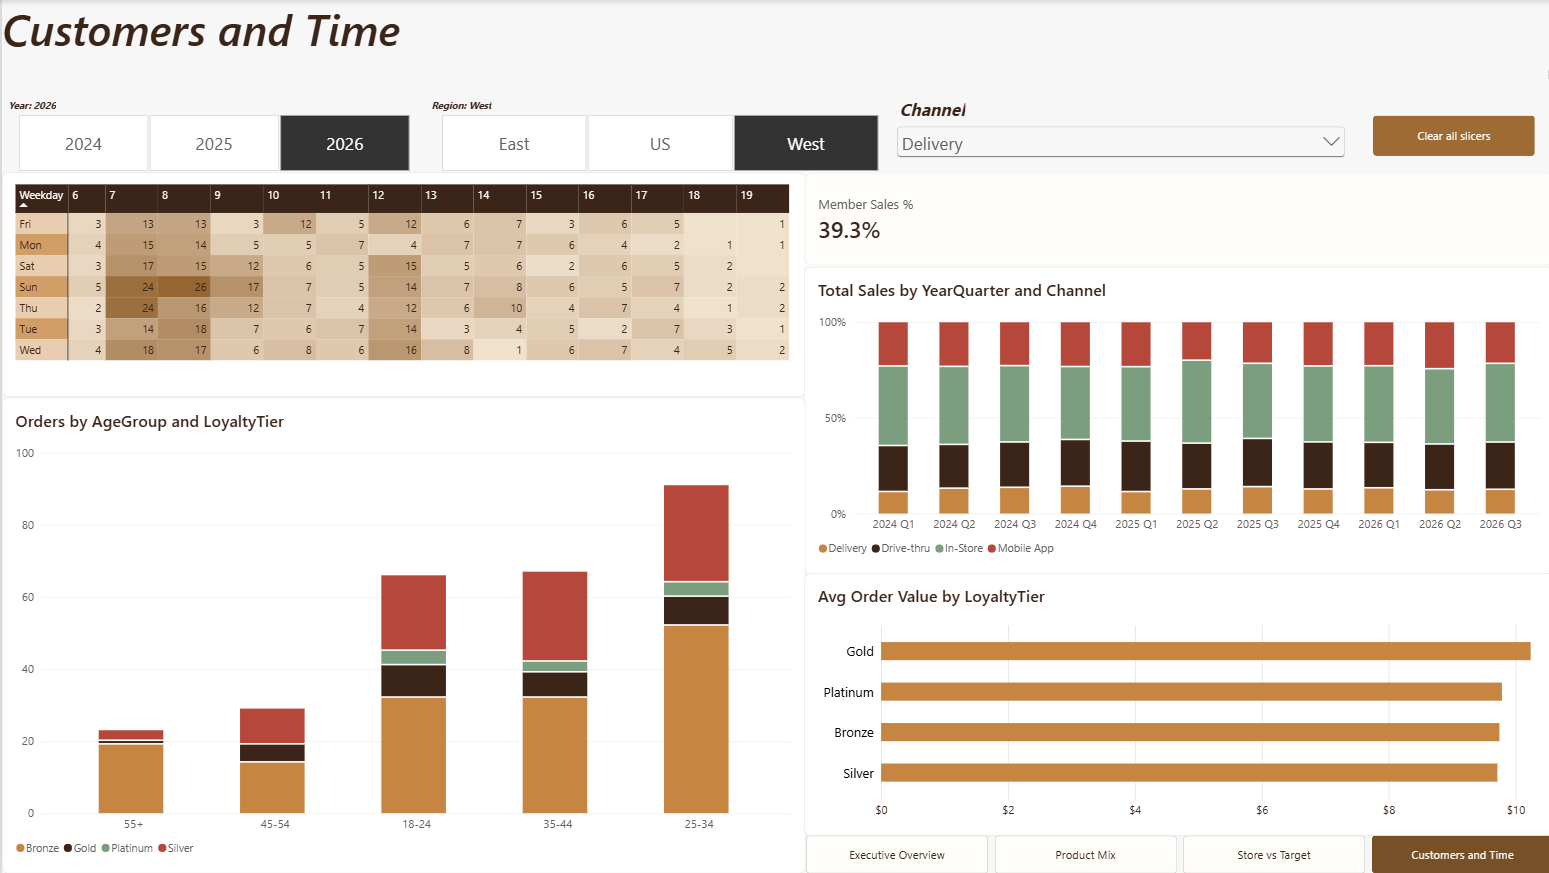

The page's visual inventory and layout, read from the dashboard file:
{"tool":"powerbi","page":{"name":"Customers and Time","canvas":[1920,1080],"ordinal":3},"visuals":[{"type":"slicer","fields":{"Values":["DimStore.Region"]},"box":[522.4,122.7,579.2,90.9],"z":0},{"type":"slicer","fields":{"Values":["DimDate.Year"]},"box":[0,122.7,522.4,90.9],"z":1000},{"type":"slicer","fields":{"Values":["FactSales.Channel"]},"box":[1101.6,120.4,563.3,93.1],"z":2000},{"type":"pivotTable","title":"Orders by Weekday and Hour","fields":{"Columns":["FactSales.OrderHour"],"Rows":["DimDate.Weekday"],"Values":["_Measures.Orders"]},"box":[0,213.5,992.6,277.1],"z":3000},{"type":"hundredPercentStackedColumnChart","title":"Total Sales by Quarter and Channel","fields":{"Category":["DimDate.YearQuarter"],"Series":["FactSales.Channel"],"Y":["_Measures.Total Sales"]},"box":[992.6,329.3,926.7,379.3],"z":4000},{"type":"cardVisual","fields":{"Data":["_Measures.Member Sales %"]},"box":[992.6,213.5,926.7,115.8],"z":5000},{"type":"columnChart","fields":{"Category":["DimCustomer.AgeGroup"],"Series":["DimCustomer.LoyaltyTier"],"Y":["_Measures.Orders"]},"box":[0,490.6,992.6,588.3],"z":6000},{"type":"barChart","fields":{"Category":["DimCustomer.LoyaltyTier"],"Y":["_Measures.Avg Order Value"]},"box":[992.6,708.6,926.7,324.8],"z":7000},{"type":"textbox","title":"Customers and Time","box":[0,0,1920.1,97.3],"z":8000},{"type":"pageNavigator","box":[993.5,1032.9,926.7,47.7],"z":9000},{"type":"actionButton","box":[1694.4,143.1,200,50],"z":10000}]}

Visuals, with their boxes in screenshot pixels (x1, y1, x2, y2), scaled from the page's 1920x1080 canvas onto the 1549x873 screenshot:
slicer - DimStore.Region: 421,99,889,173
slicer - DimDate.Year: 0,99,421,173
slicer - FactSales.Channel: 889,97,1343,173
"Orders by Weekday and Hour" pivotTable: 0,173,801,397
"Total Sales by Quarter and Channel" hundredPercentStackedColumnChart: 801,266,1548,573
cardVisual - _Measures.Member Sales %: 801,173,1548,266
columnChart - DimCustomer.AgeGroup x DimCustomer.LoyaltyTier: 0,397,801,872
barChart - DimCustomer.LoyaltyTier x _Measures.Avg Order Value: 801,573,1548,835
"Customers and Time" textbox: 0,0,1548,79
pageNavigator: 802,835,1548,872
actionButton: 1367,116,1528,156
